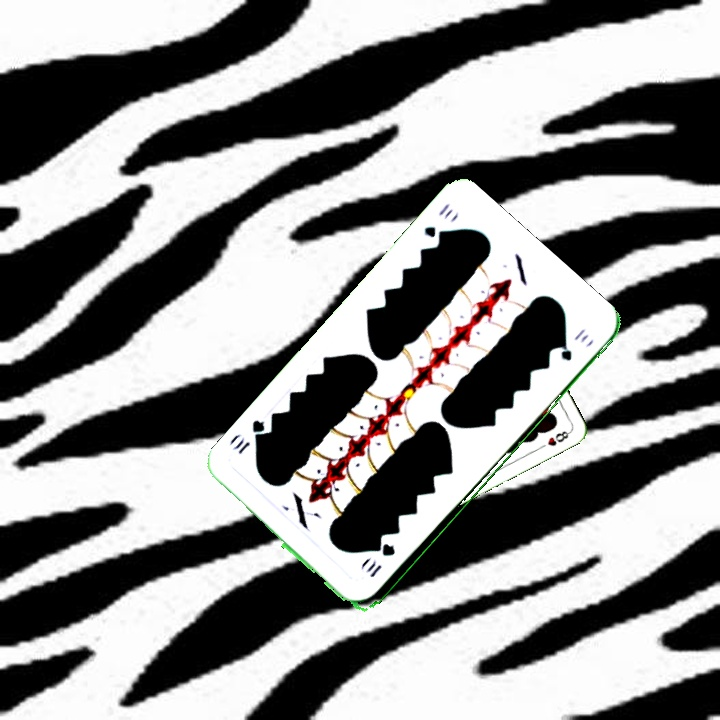G10: (420, 199, 455, 245), (362, 540, 398, 581)
